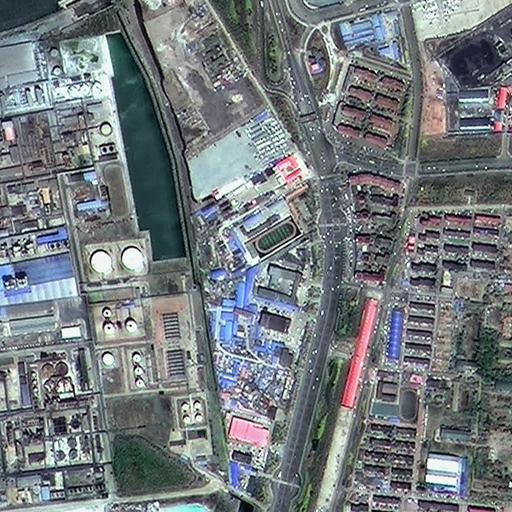school: (234, 196, 307, 265), (365, 367, 423, 427)
